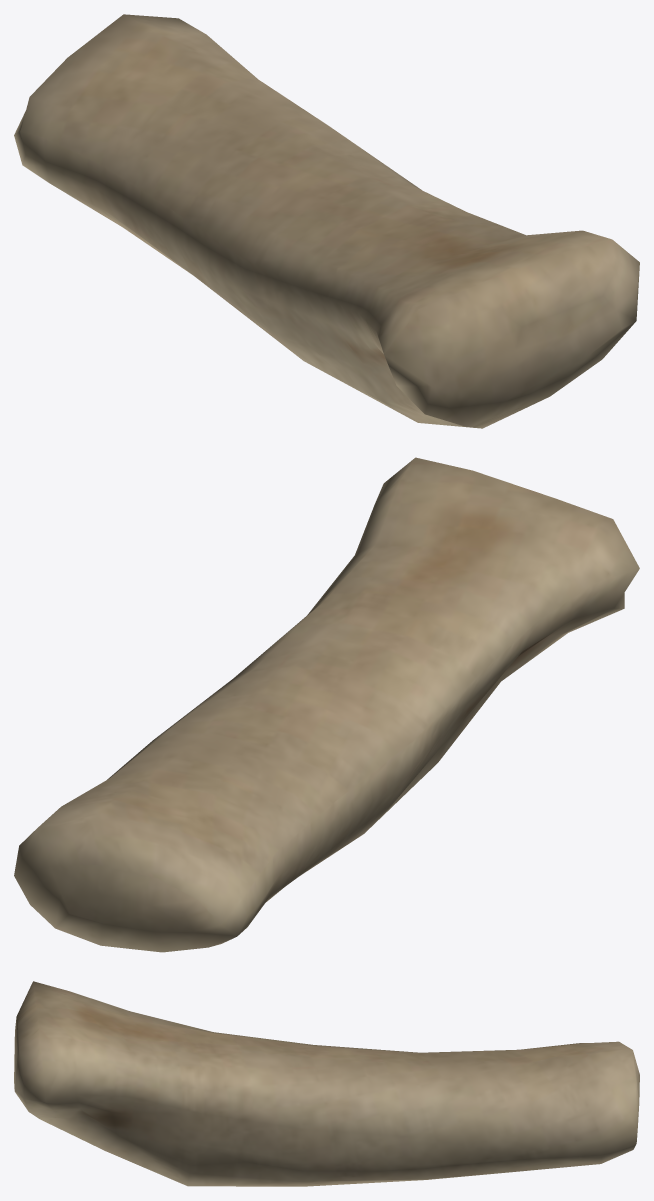
The model's file is Xiphoid_Process.glb.
3 renders of one model, top to bottom at view 1: azimuth 30°, elevation 25°; view 2: azimuth 150°, elevation 25°; view 3: azimuth 270°, elevation 25°, orthographic. The views are drawn at different scales.
Visible parts, largest first — view 1: Xiphoid_Process1:Group6920; view 2: Xiphoid_Process1:Group6920; view 3: Xiphoid_Process1:Group6920.
Boxes of the visible parts, x1,y1,x2,y2 form: Xiphoid_Process1:Group6920: [14, 14, 639, 428]; Xiphoid_Process1:Group6920: [14, 457, 639, 952]; Xiphoid_Process1:Group6920: [14, 981, 639, 1186].
Size of the model in its own units: 6.52 by 5.66 by 18.8.
1 material, 1 textured.
